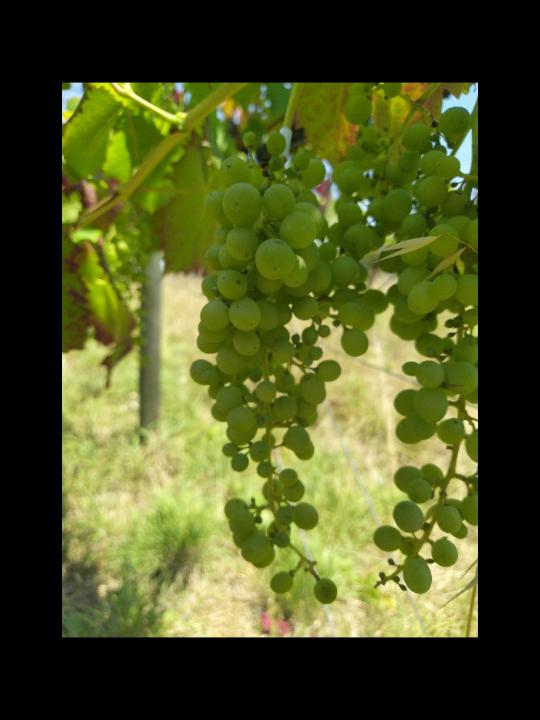grape: (188, 130, 386, 610)
